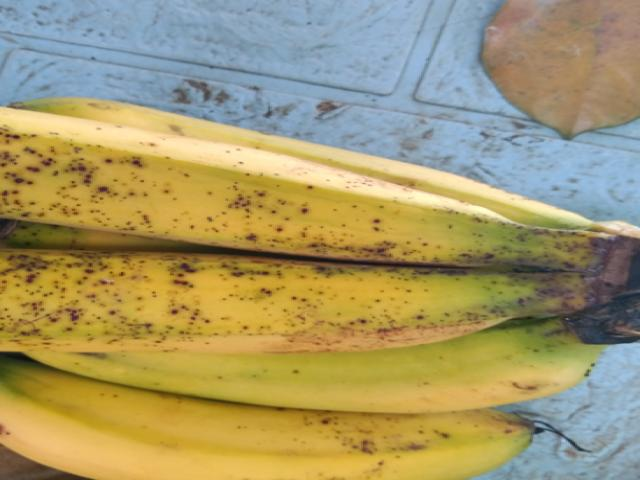ripe: (0, 241, 499, 397), (0, 103, 544, 242), (0, 371, 547, 479)
